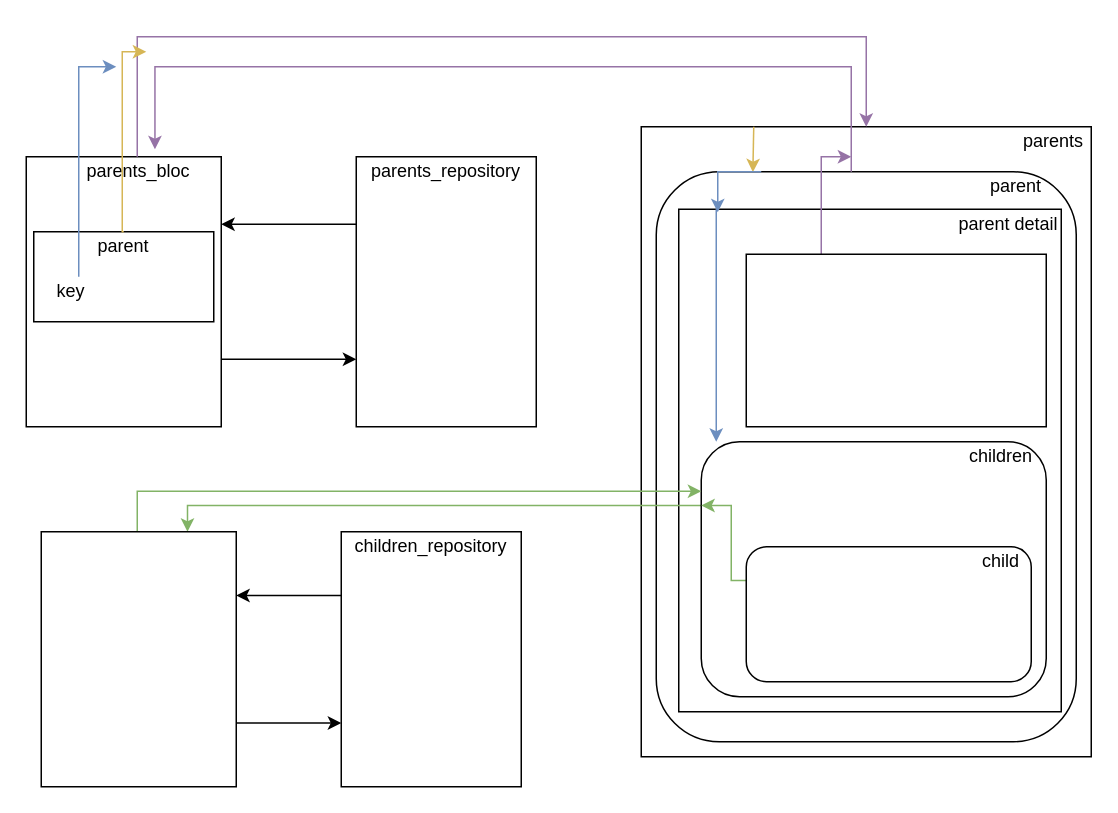
The diagram is 1118 pixels wide and 813 high, and some of its shapes have lost their labels. Each missing label, with the centre of its shape:
children_bloc: [138,658]
parent setting: [895,340]
